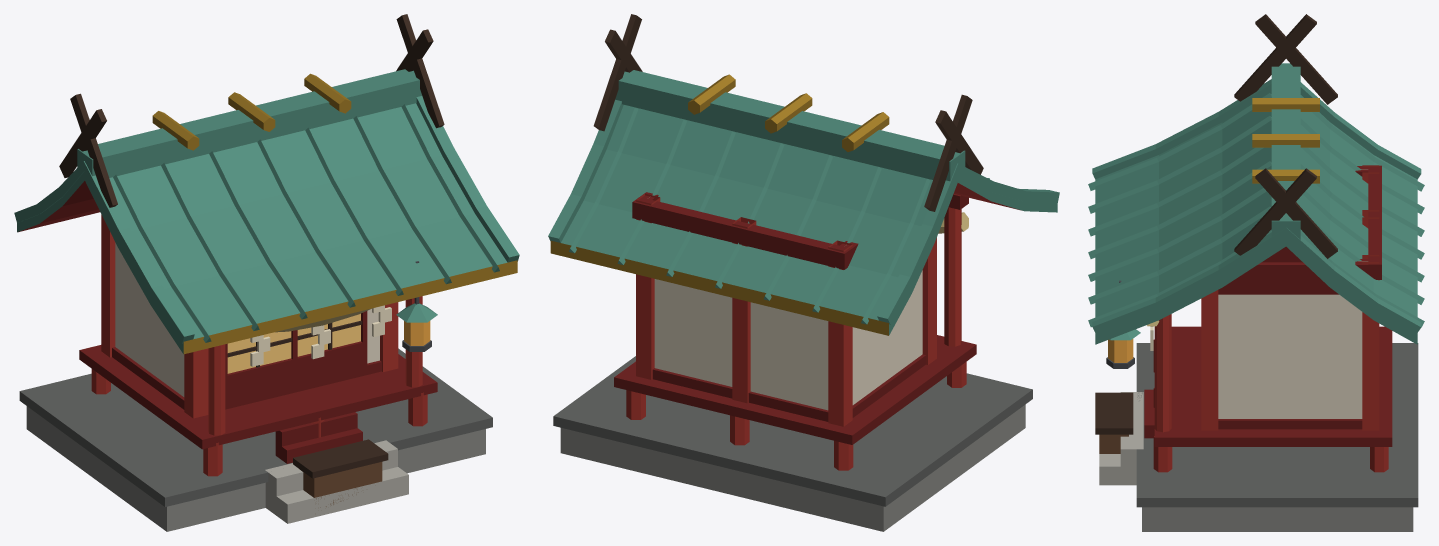
Rendered from shrine_small.fbx.
The picture shows the model from 3 angles, left to right: view 1: azimuth 30°, elevation 25°; view 2: azimuth 150°, elevation 25°; view 3: azimuth 270°, elevation 25°; orthographic projection. The views are drawn at different scales.
Visible parts, largest first — view 1: shrine_small; view 2: shrine_small; view 3: shrine_small.
Part boxes in pixels (x1,y1,x2,y2): shrine_small: [14, 14, 519, 531]; shrine_small: [548, 14, 1059, 531]; shrine_small: [1088, 14, 1424, 531].
Bounding box in the file's own units: 4.42 × 4.74 × 3.97.
